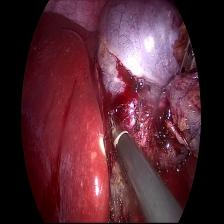Grasper: (175, 38, 198, 83)
Hook: (107, 113, 133, 158)
